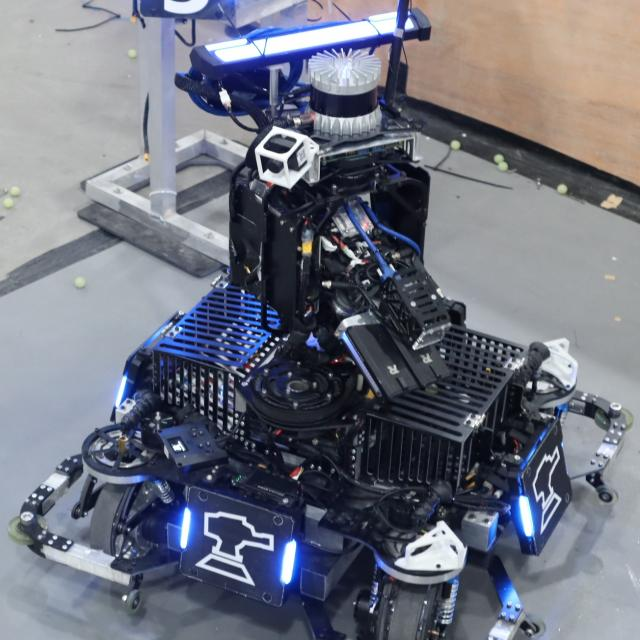Bs: (175, 492, 294, 600), (514, 437, 576, 541)
